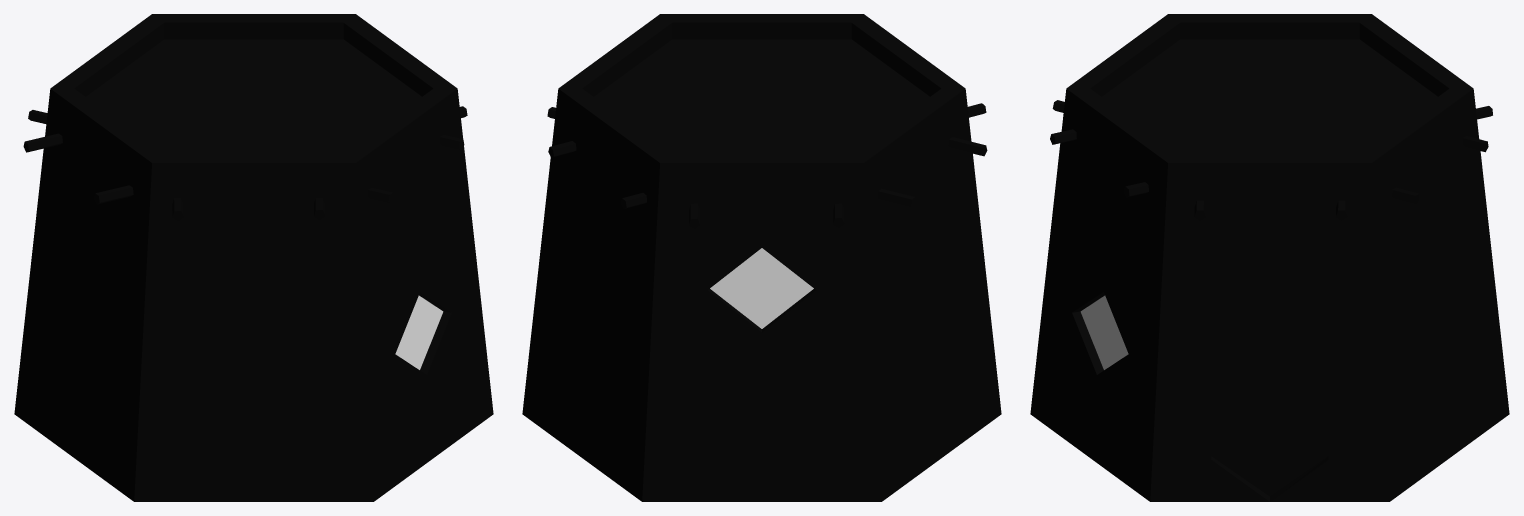
The model's file is Midhouse.glb.
3 views of the same model, side by side, from view 1: azimuth 30°, elevation 25°; view 2: azimuth 150°, elevation 25°; view 3: azimuth 270°, elevation 25° (orthographic).
Parts seen in each view (by area): view 1: MidHouse; view 2: MidHouse; view 3: MidHouse.
Boxes of the visible parts, bbox=[...] form: MidHouse: bbox=[14, 14, 493, 501]; MidHouse: bbox=[522, 14, 1001, 501]; MidHouse: bbox=[1030, 14, 1509, 501].
Size of the model in its own units: 3.56 by 3 by 4.
Materials: 1 (1 with a texture image).
